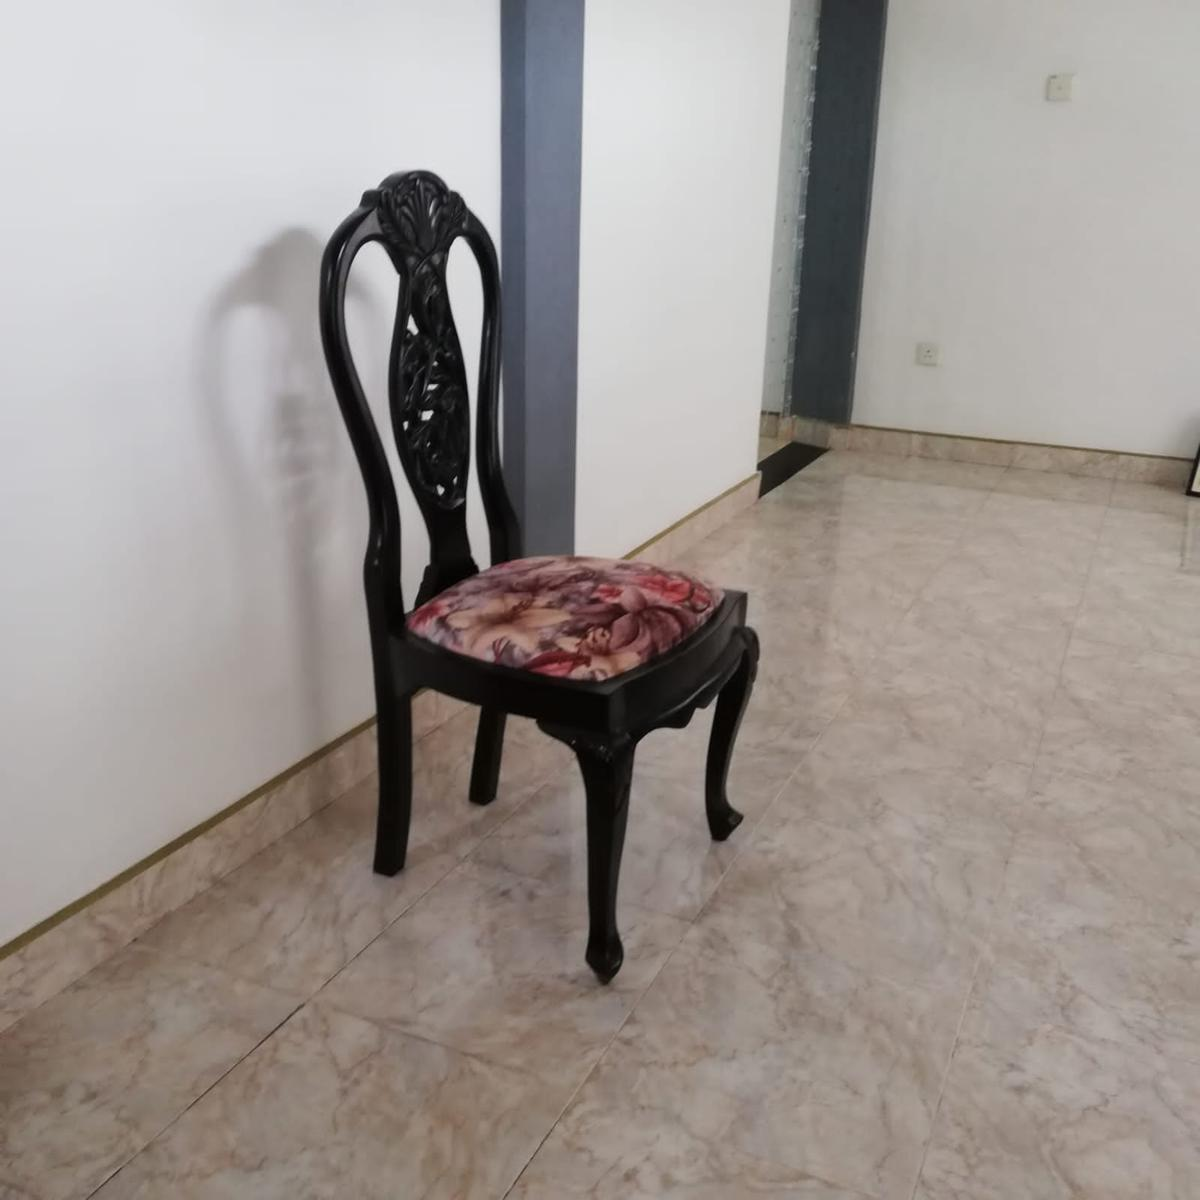Chair: (312, 165, 756, 983)
